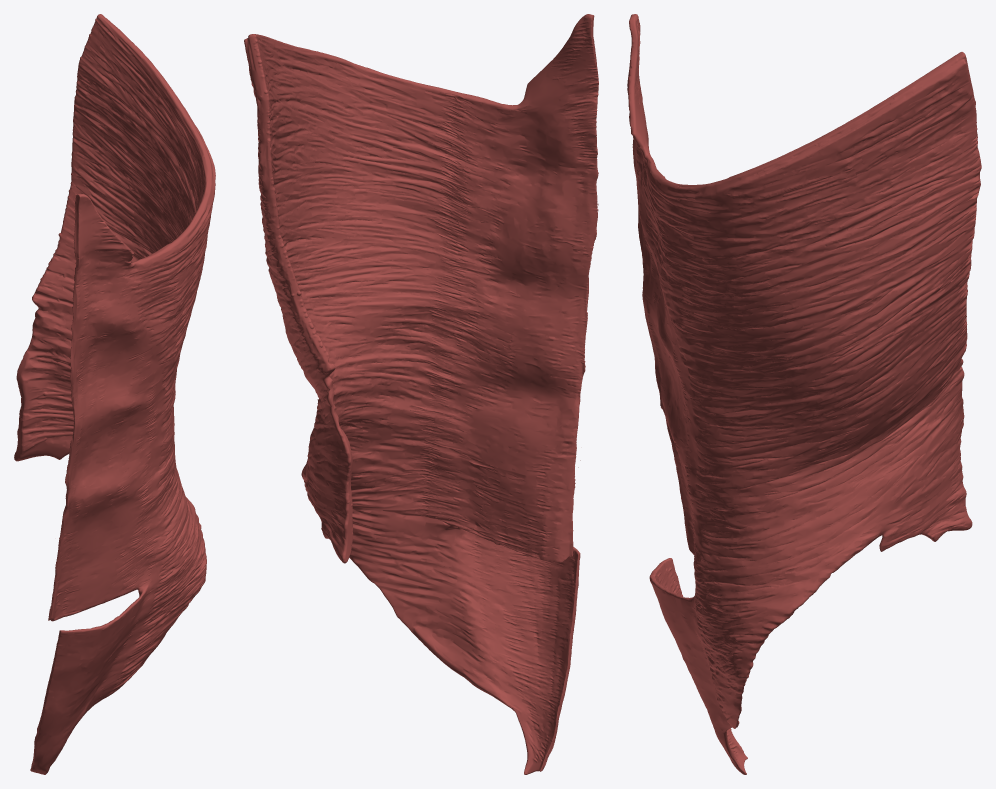
File: FMA22345.glb
The picture shows the model from 3 angles, left to right: view 1: azimuth 30°, elevation 25°; view 2: azimuth 150°, elevation 25°; view 3: azimuth 270°, elevation 25°; orthographic projection. The views are drawn at different scales.
Visible parts, largest first — view 1: FMA22345; view 2: FMA22345; view 3: FMA22345.
Part boxes in pixels (<box>): FMA22345: <box>14,14,215,774</box>; FMA22345: <box>244,14,598,774</box>; FMA22345: <box>627,14,981,774</box>.
Size of the model in its own units: 0.1254 by 0.4077 by 0.162.
